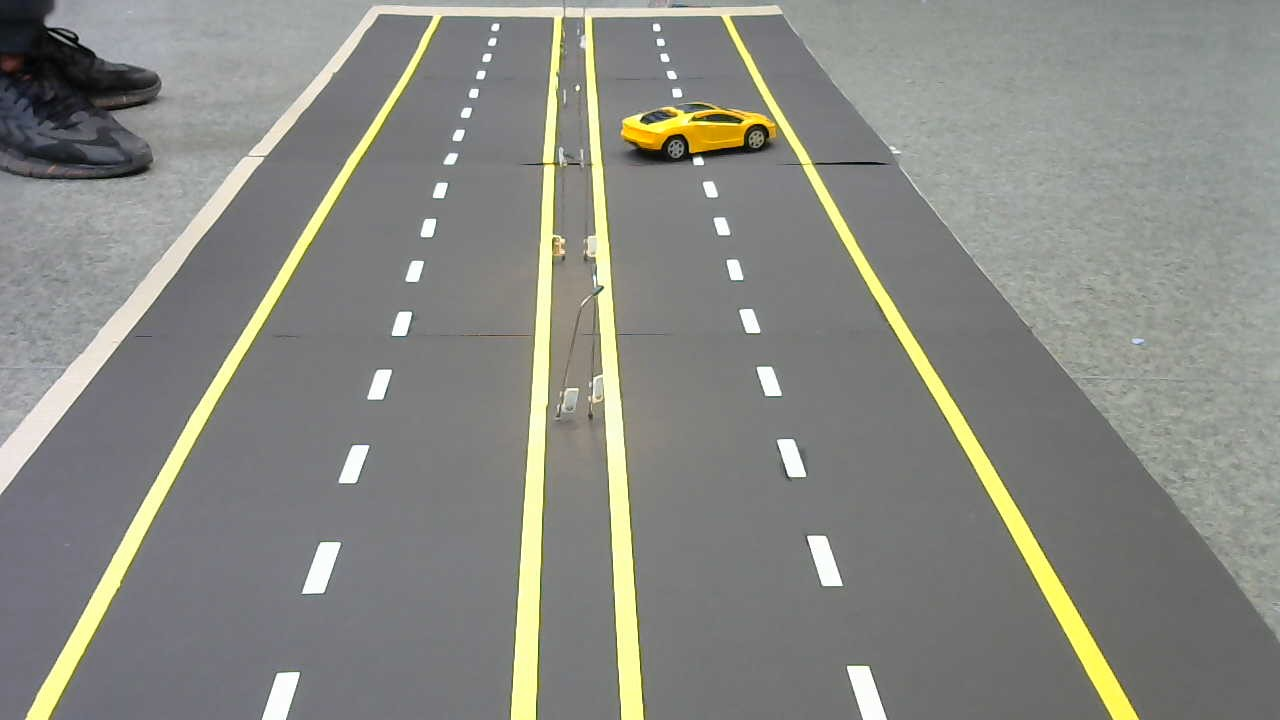overturn_car: (620, 94, 776, 172)
